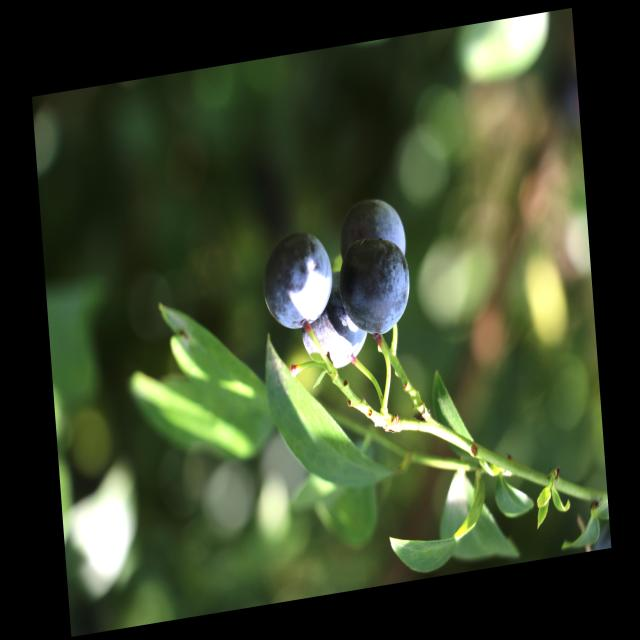blueberry: (257, 225, 341, 338), (333, 232, 415, 346), (326, 189, 410, 266), (298, 302, 376, 378)
